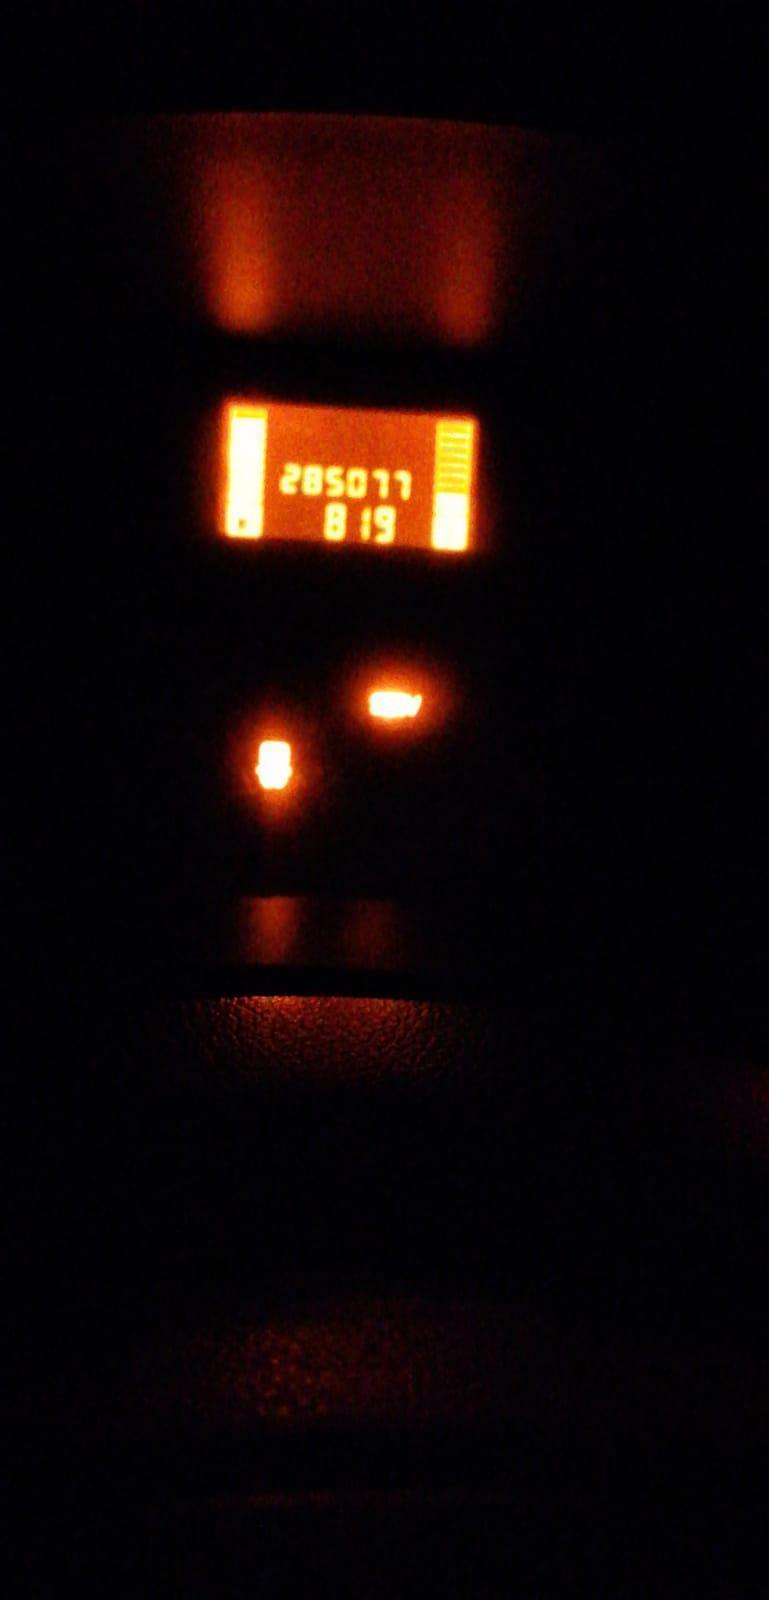0: (345, 466, 368, 498)
1: (359, 506, 372, 543)
2: (278, 462, 301, 494)
5: (324, 464, 345, 497)
7: (391, 469, 413, 501), (371, 468, 390, 499)
8: (321, 501, 348, 542), (301, 463, 323, 496)
9: (372, 504, 397, 544)
odometer: (212, 395, 484, 557)
